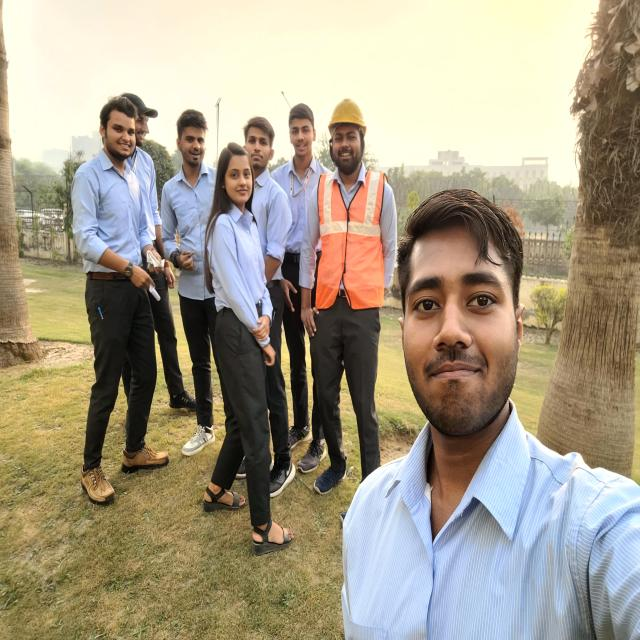safe: (311, 97, 399, 494)
unsafe: (337, 184, 638, 640), (71, 94, 168, 509), (202, 143, 300, 553), (160, 101, 218, 467), (278, 101, 322, 469)
